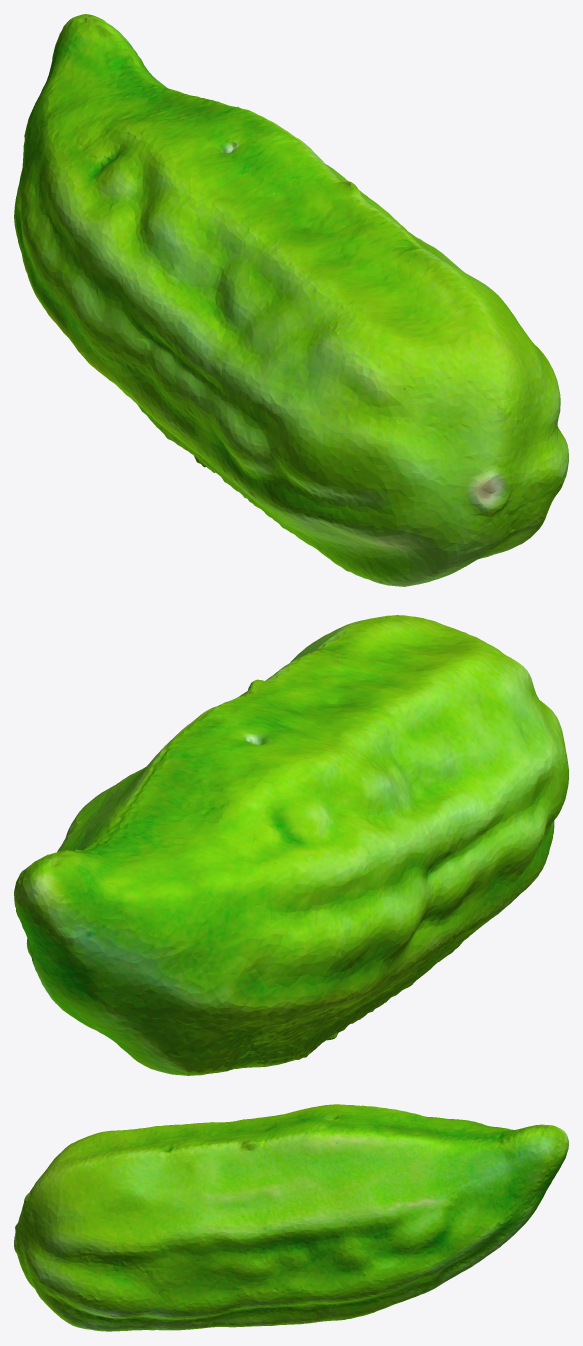
The model's file is bittermelon.obj.
3 views of the same model, one above another, from view 1: azimuth 30°, elevation 25°; view 2: azimuth 150°, elevation 25°; view 3: azimuth 270°, elevation 25° (orthographic). The views are drawn at different scales.
Parts seen in each view (by area): view 1: bittermelon; view 2: bittermelon; view 3: bittermelon.
Boxes of the visible parts, <box> form: bittermelon: <box>14,14,568,586</box>; bittermelon: <box>14,615,568,1075</box>; bittermelon: <box>14,1104,568,1331</box>.
Size of the model in its own units: 0.0524 by 0.0524 by 0.1302.
